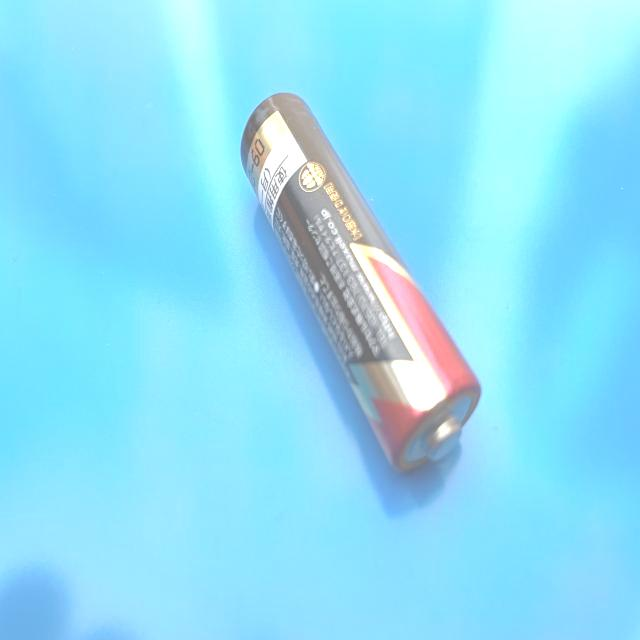AAA: (240, 92, 482, 474)
